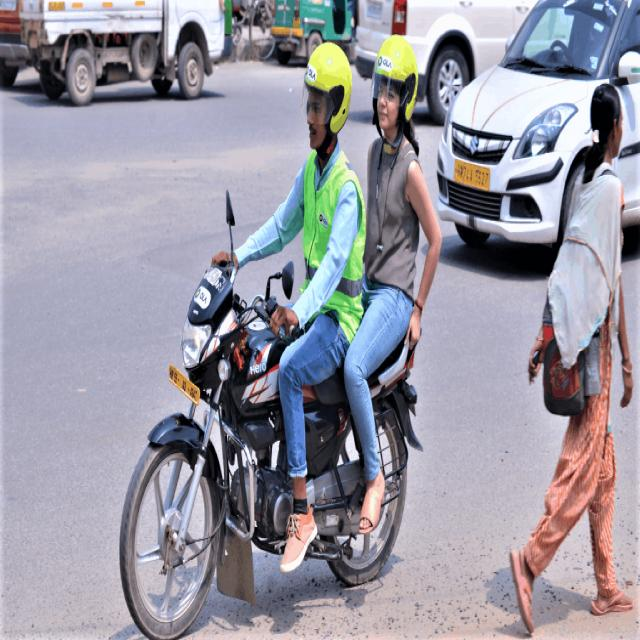car: (118, 258, 420, 638)
